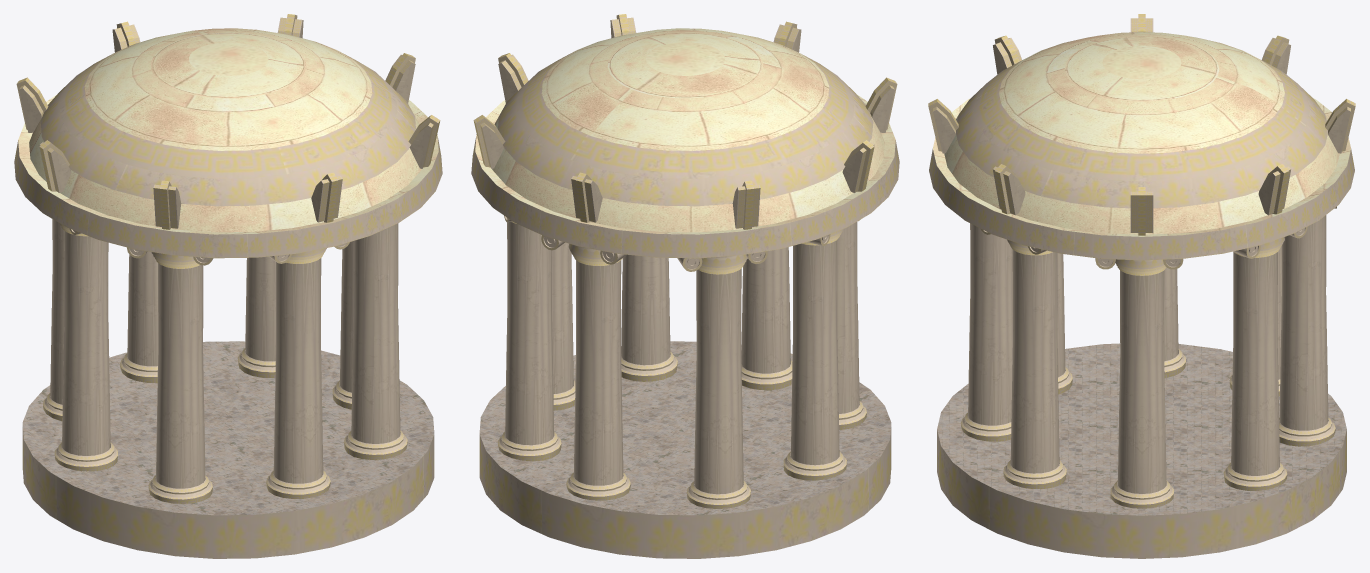
The model's file is SM_circular_terrace_02.glb.
3 views of the same model, side by side, from view 1: azimuth 30°, elevation 25°; view 2: azimuth 150°, elevation 25°; view 3: azimuth 270°, elevation 25° (orthographic).
Visible parts, largest first — view 1: SM_circular_terrace_02; view 2: SM_circular_terrace_02; view 3: SM_circular_terrace_02.
Part boxes in pixels (left/top/right/bottom): SM_circular_terrace_02: left=14, top=14, right=442, bottom=558; SM_circular_terrace_02: left=471, top=14, right=899, bottom=558; SM_circular_terrace_02: left=928, top=14, right=1355, bottom=558.
Bounding box in the file's own units: 6.44 × 6.87 × 6.43.
Materials: 4 (4 with a texture image).
